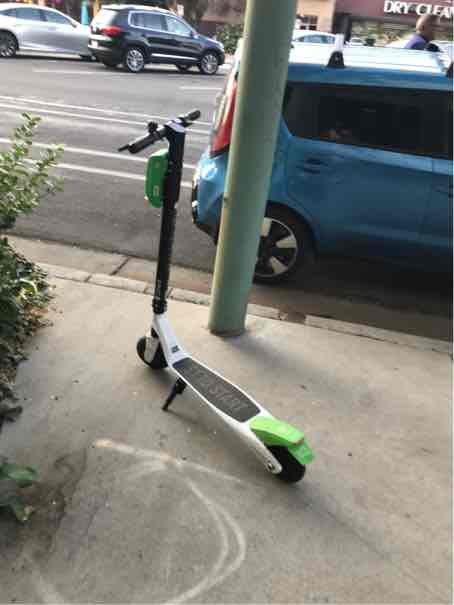scooter: (122, 106, 322, 492)
